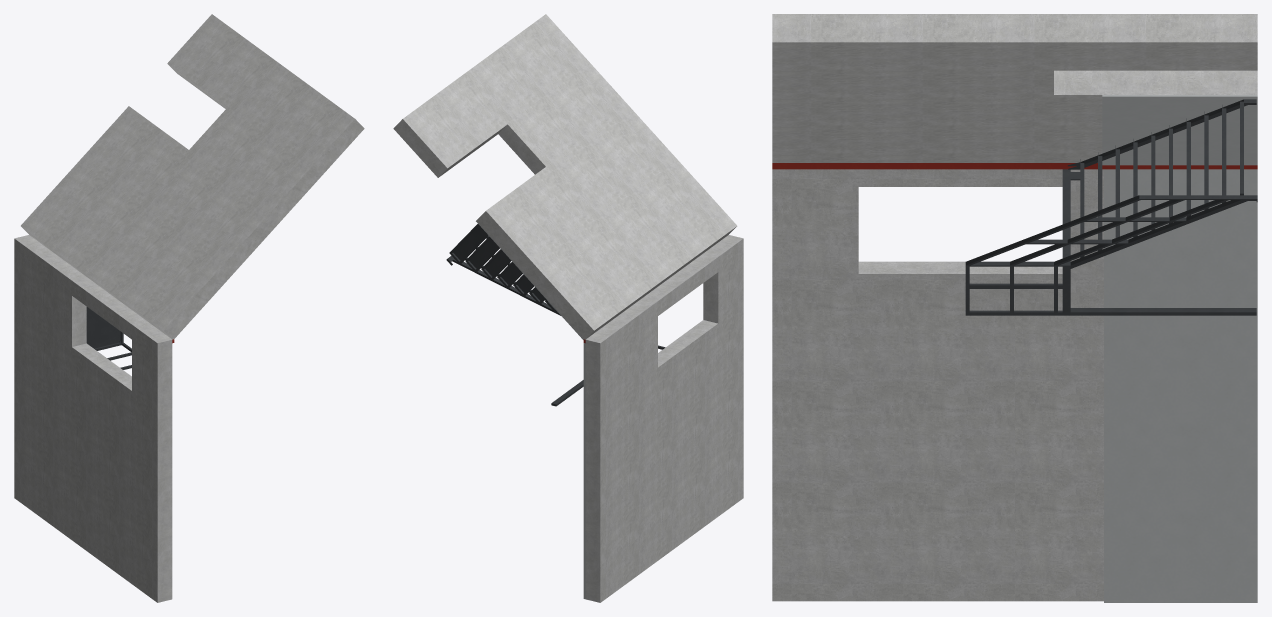
File: escalera-falsa-escuadra-olaso-mwxejuyt.glb
3 views of the same model, side by side, from view 1: azimuth 30°, elevation 25°; view 2: azimuth 150°, elevation 25°; view 3: azimuth 270°, elevation 25° (orthographic). The views are drawn at different scales.
Parts seen in each view (by area): view 1: Body3, Body1, CHAPA_RELLANO; view 2: Body3, Body1, Body90, Body7; view 3: Body1, Body7, Body3, Body5, barandilla_(1), Body90, Body2, Body54, rellano.
Part boxes in pixels (x1=…): Body3: x1=21, y1=14, x2=364, y2=339; Body1: x1=14, y1=235, x2=172, y2=602; CHAPA_RELLANO: x1=86, y1=307, x2=120, y2=348; Body3: x1=393, y1=14, x2=736, y2=339; Body1: x1=585, y1=235, x2=743, y2=602; Body90: x1=448, y1=224, x2=560, y2=315; Body7: x1=583, y1=343, x2=585, y2=599; Body1: x1=772, y1=169, x2=1103, y2=601; Body7: x1=1104, y1=169, x2=1257, y2=602; Body3: x1=772, y1=14, x2=1257, y2=162; Body5: x1=1102, y1=95, x2=1257, y2=165; barandilla_(1): x1=965, y1=195, x2=1243, y2=315; Body90: x1=1070, y1=99, x2=1256, y2=268; Body2: x1=772, y1=163, x2=1257, y2=169; Body54: x1=1070, y1=308, x2=1256, y2=315; rellano: x1=1063, y1=169, x2=1070, y2=315.
Size of the model in its own units: 4.17 by 8.39 by 5.
4 materials, 4 textured.
